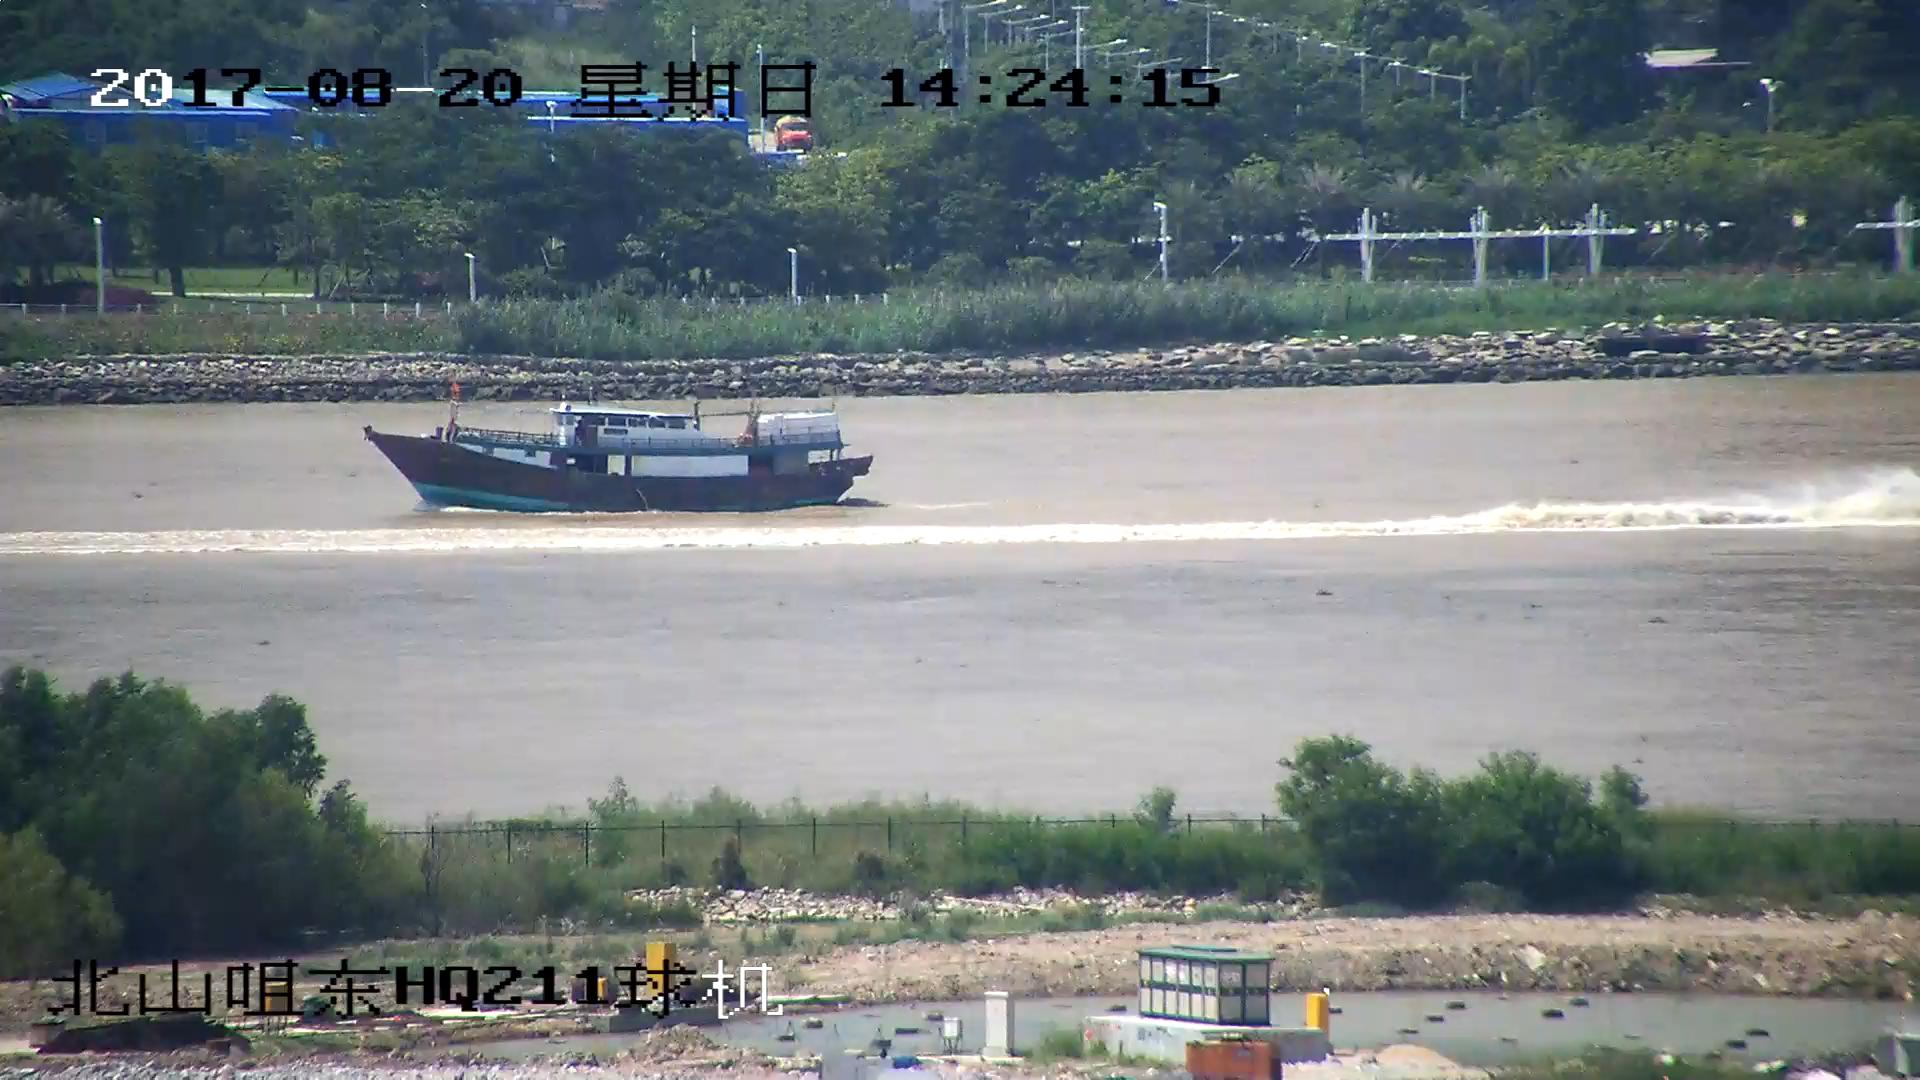fishing boat: (363, 397, 873, 511)
